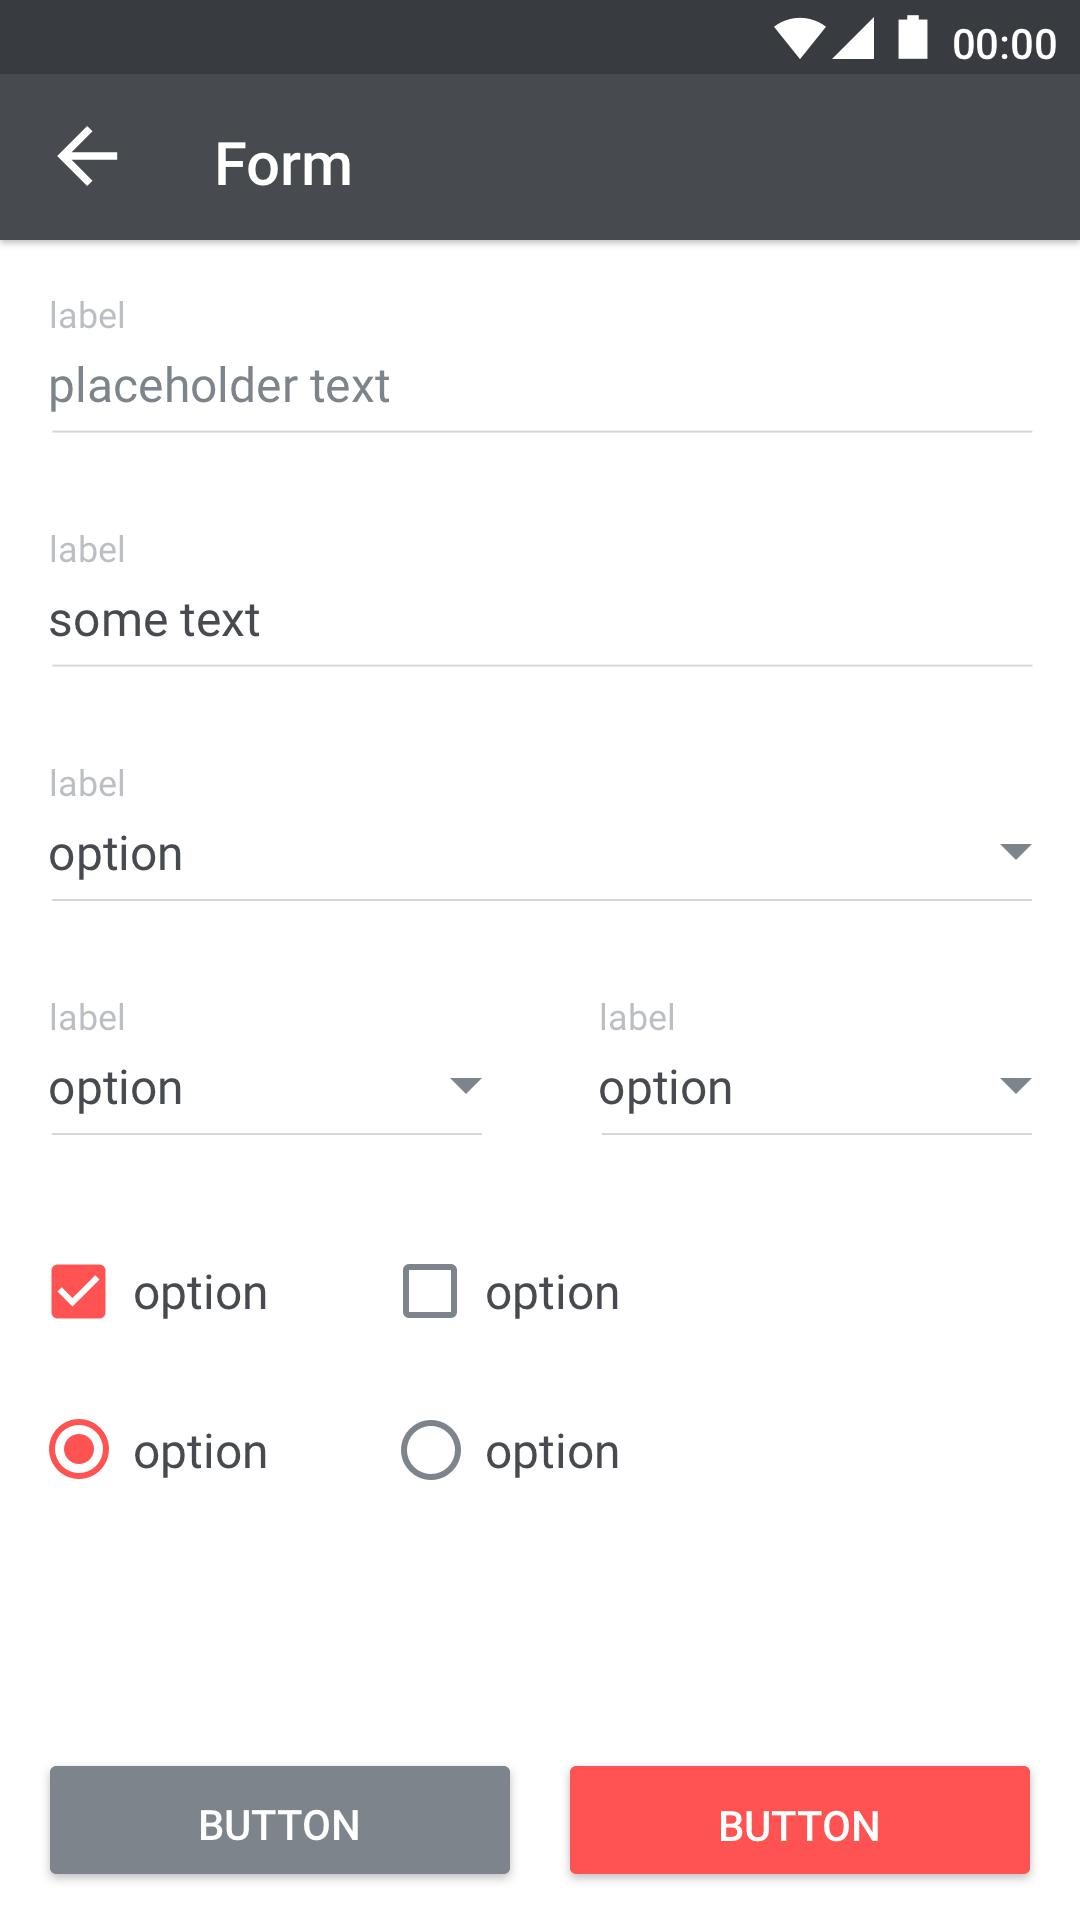CheckedTextView: (397, 1259, 624, 1325), (46, 1416, 270, 1482), (397, 1418, 622, 1482), (47, 1263, 270, 1323)
EditText: (45, 357, 1040, 438), (47, 601, 1040, 671)
Icon: (53, 120, 121, 189)
Spinner: (45, 833, 1046, 907), (600, 1063, 1039, 1141), (46, 1063, 491, 1139)
Text: (211, 138, 353, 189), (46, 997, 131, 1036), (45, 761, 127, 800), (45, 530, 131, 567), (47, 291, 127, 331), (597, 998, 676, 1035)
TextButton: (568, 1764, 1033, 1876), (49, 1764, 512, 1876)
Toolbar: (1, 76, 1080, 243)
UpperTaskBar: (3, 1, 1080, 76)
